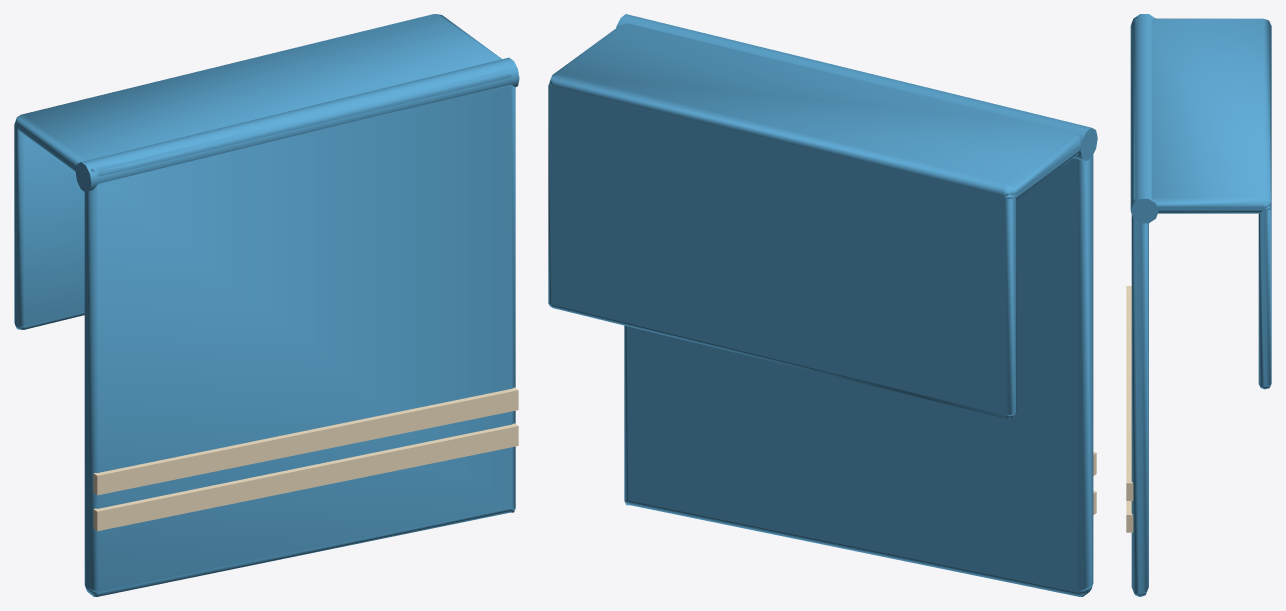
File: radiator_towel.glb
3 renders of one model, left to right at view 1: azimuth 30°, elevation 25°; view 2: azimuth 150°, elevation 25°; view 3: azimuth 270°, elevation 25°, orthographic. The views are drawn at different scales.
Parts seen in each view (by area): view 1: RadiatorTowelBody; view 2: RadiatorTowelBody; view 3: RadiatorTowelBody.
Boxes of the visible parts, <box> form: RadiatorTowelBody: <box>14,14,519,596</box>; RadiatorTowelBody: <box>548,14,1097,596</box>; RadiatorTowelBody: <box>1126,14,1271,596</box>.
Bounding box in the file's own units: 0.5 × 0.5022 × 0.166.
